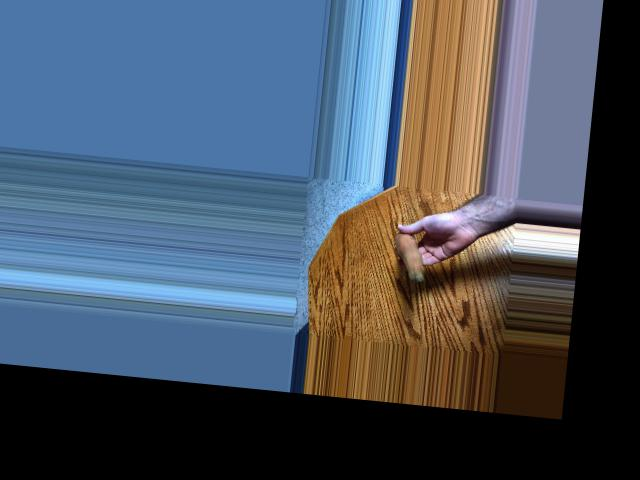sweet_potato: (391, 228, 431, 283)
